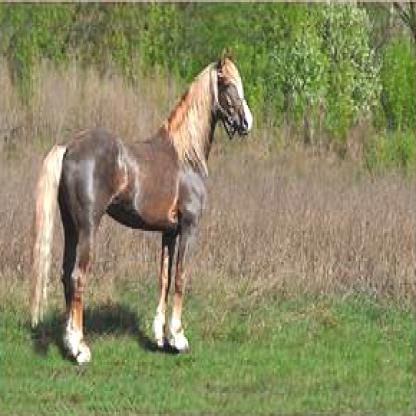horse: (33, 48, 252, 364)
